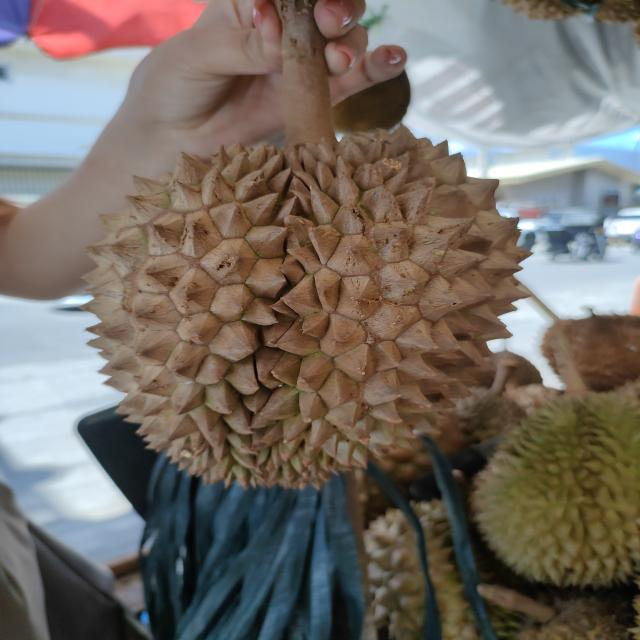mature: (80, 126, 536, 486)
